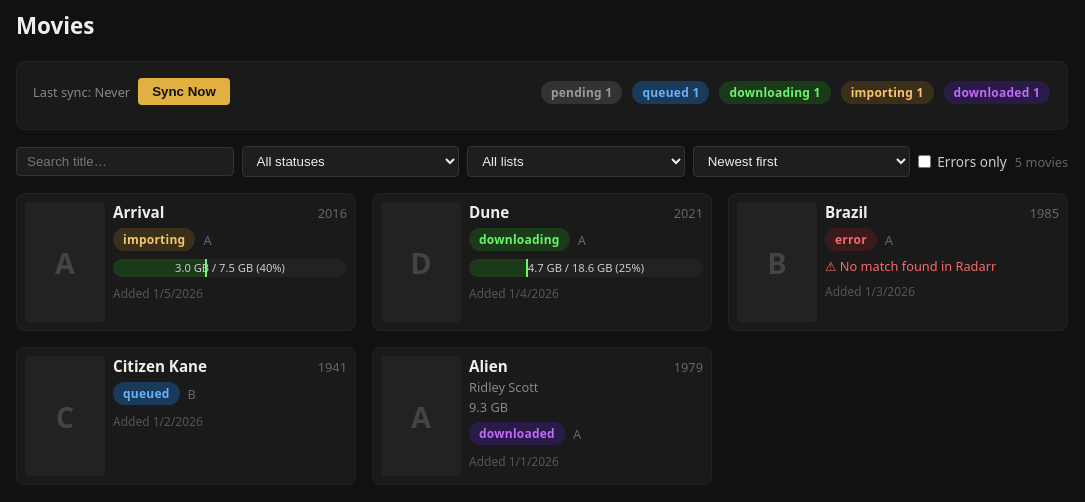
Test: errors-only toggle narrows to movies with a radarr_error
The image size is (1085, 502).
Expected: the text "Alien" is shown, [469,356,508,376]
Click the checkbox labelled "Errors only".
click(925, 162)  # box [918,155,931,168]
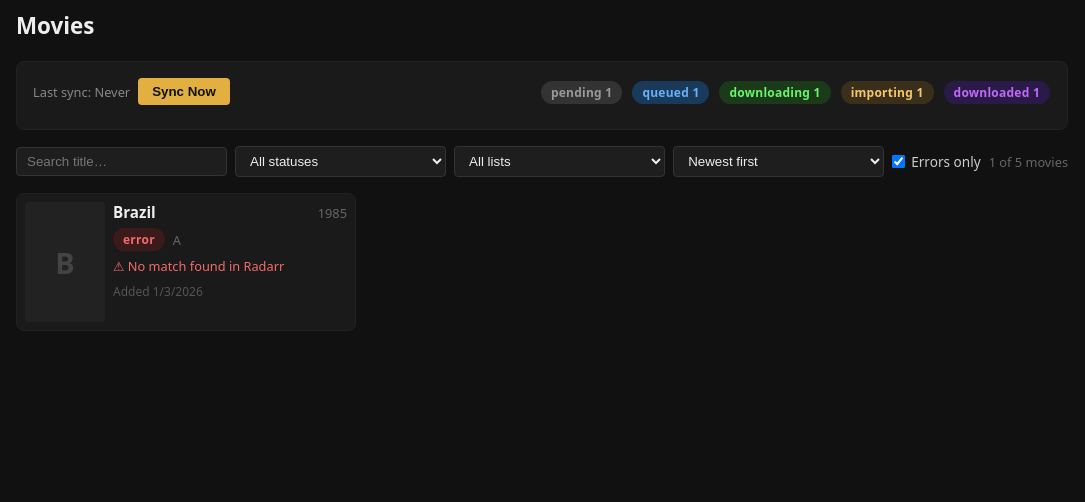
Expected: the text "Brazil" is shown, [113,202,156,222]
Expected: the text "Alien" is gone
